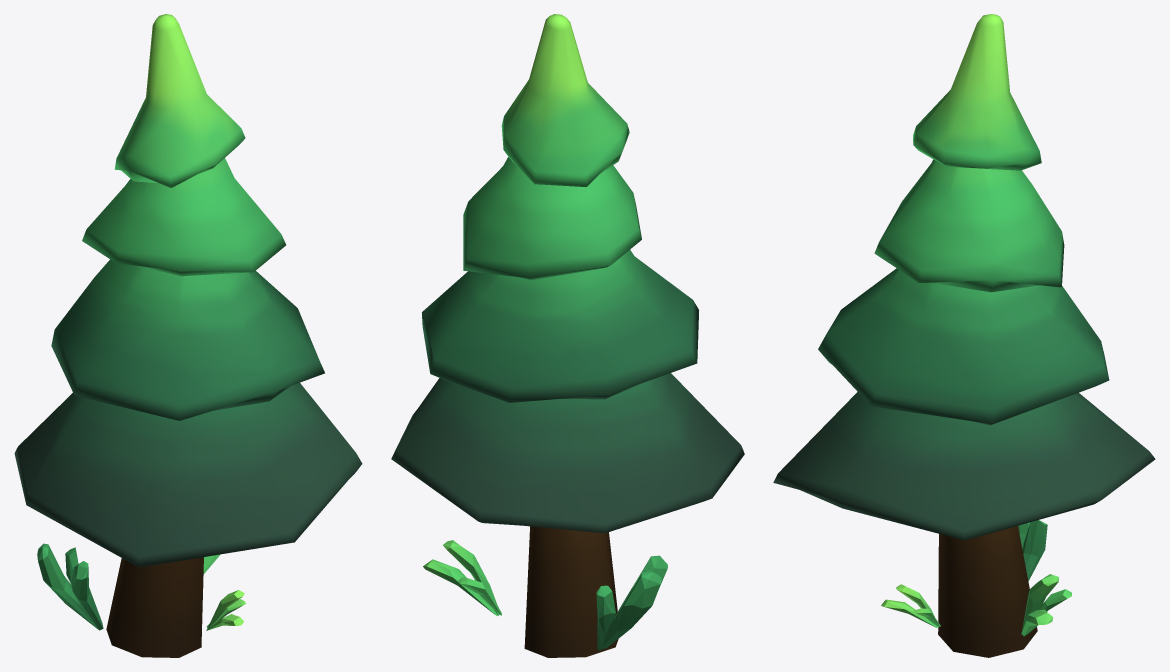
The model's file is tree.obj.
The picture shows the model from 3 angles, left to right: view 1: azimuth 30°, elevation 25°; view 2: azimuth 150°, elevation 25°; view 3: azimuth 270°, elevation 25°; orthographic projection.
Visible parts, largest first — view 1: Circle.009; view 2: Circle.009; view 3: Circle.009.
Part boxes in pixels (left/top/right/bottom): Circle.009: left=14, top=14, right=362, bottom=657; Circle.009: left=391, top=14, right=744, bottom=657; Circle.009: left=773, top=14, right=1155, bottom=657.
Bounding box in the file's own units: 2 × 3.93 × 2.17.
